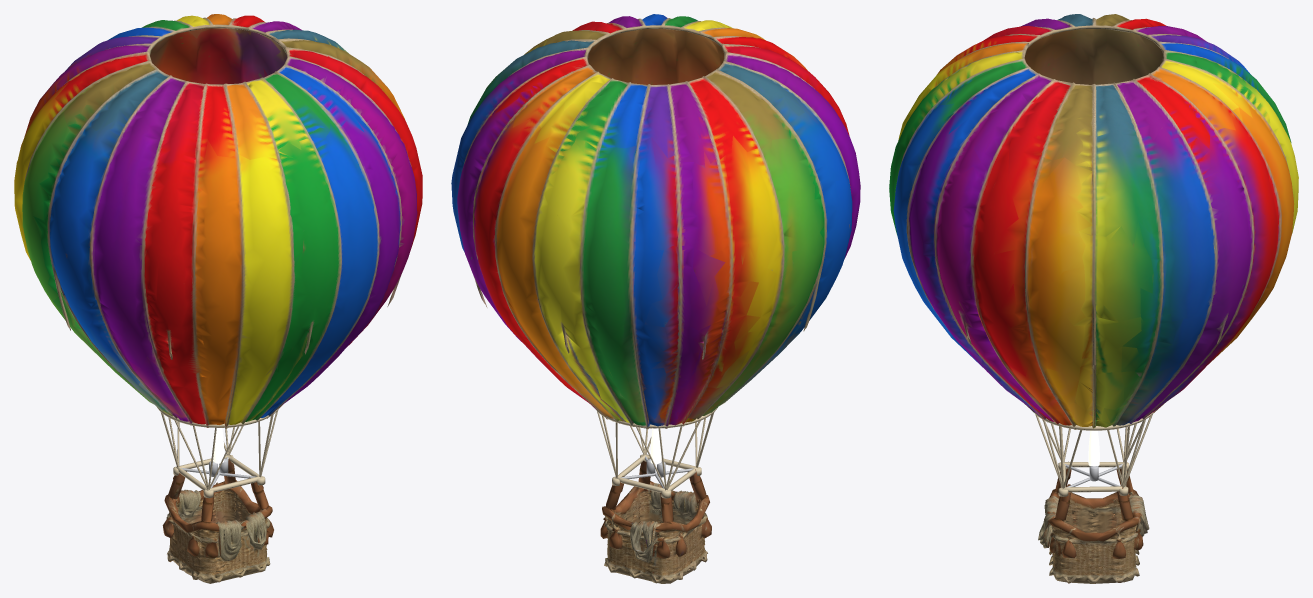
Rendered from balloon_meshy.fbx.
3 views of the same model, side by side, from view 1: azimuth 30°, elevation 25°; view 2: azimuth 150°, elevation 25°; view 3: azimuth 270°, elevation 25° (orthographic).
Visible parts, largest first — view 1: Envelope, Basket, Rigging; view 2: Envelope, Basket, Rigging; view 3: Envelope, Basket, Rigging.
Boxes of the visible parts, x1,y1,x2,y2 form: Envelope: [14, 14, 422, 428]; Basket: [162, 455, 273, 583]; Rigging: [157, 407, 278, 498]; Envelope: [451, 14, 860, 428]; Basket: [600, 461, 711, 583]; Rigging: [596, 407, 717, 498]; Envelope: [889, 14, 1298, 429]; Basket: [1038, 461, 1149, 583]; Rigging: [1035, 412, 1153, 496].
Bounding box in the file's own units: 38.53 × 54.02 × 38.92.
4 materials, 1 textured.
